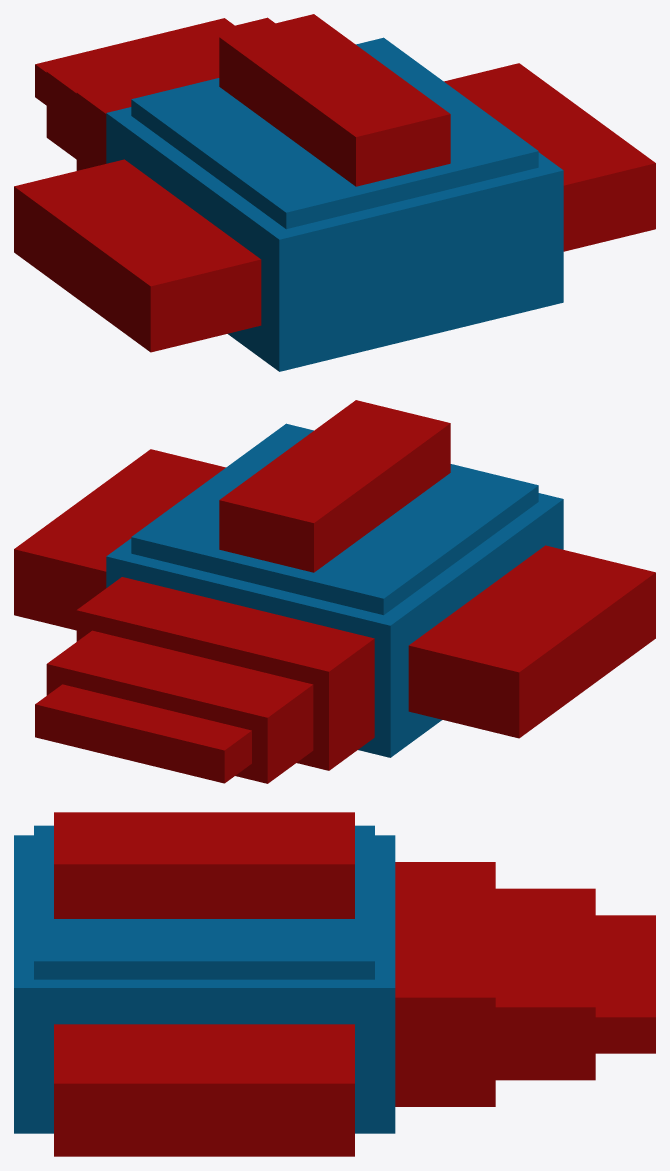
The model's file is airplane.obj.
3 renders of one model, top to bottom at view 1: azimuth 30°, elevation 25°; view 2: azimuth 150°, elevation 25°; view 3: azimuth 270°, elevation 25°, orthographic. The views are drawn at different scales.
Bounding box in the file's own units: 3.2 × 1.2 × 3.2.
Materials: 1 (1 with a texture image).
